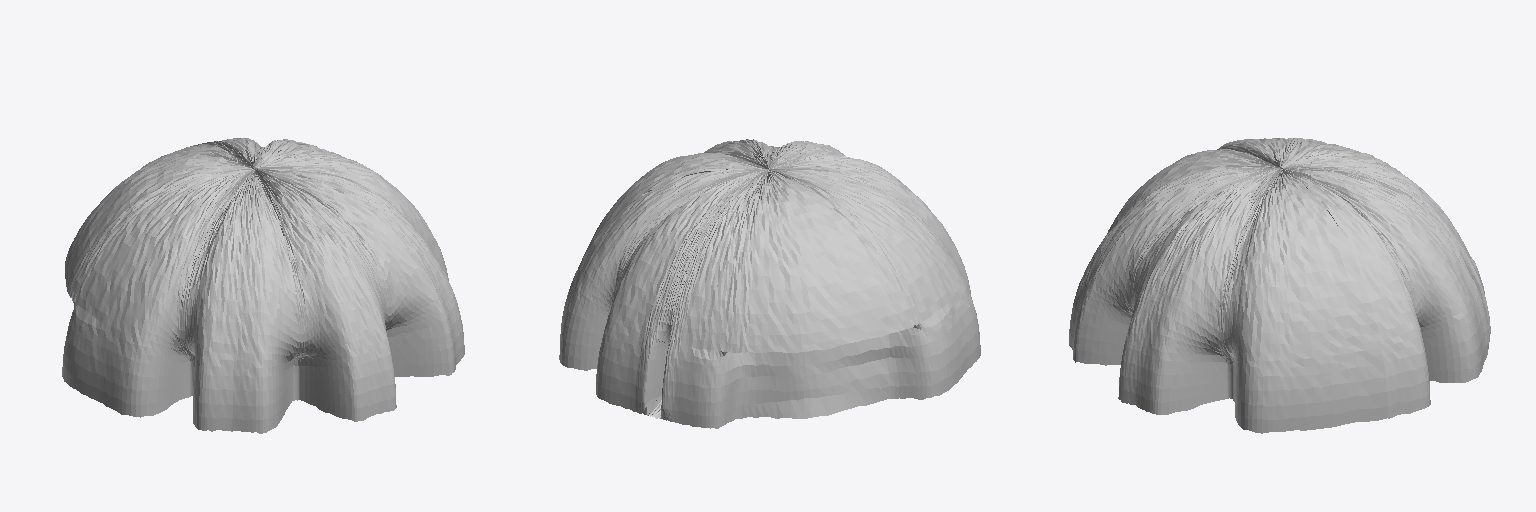
The model's file is newwalls.obj.
3 views of the same model, side by side, from view 1: azimuth 30°, elevation 25°; view 2: azimuth 150°, elevation 25°; view 3: azimuth 270°, elevation 25° (orthographic).
Parts seen in each view (by area): view 1: Loft; view 2: Loft; view 3: Loft.
Part boxes in pixels (x1,y1,x2,y2): Loft: (62, 138, 464, 433); Loft: (559, 139, 980, 428); Loft: (1069, 138, 1490, 433).
Bounding box in the file's own units: 1887 × 869 × 1882.